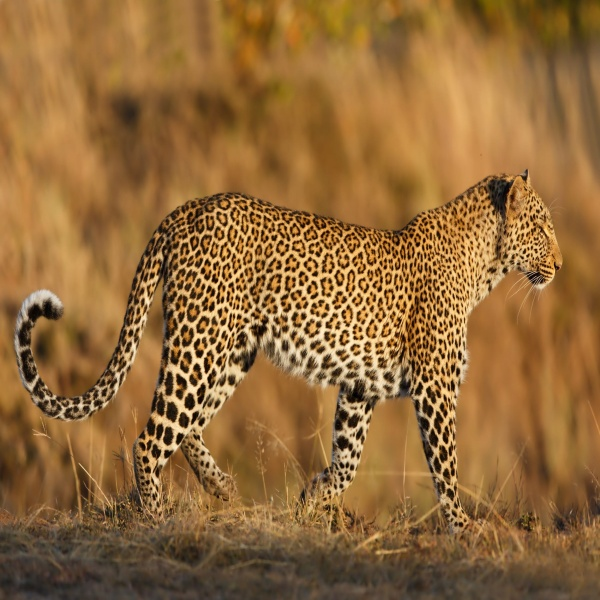Leopard: (9, 163, 567, 534)
